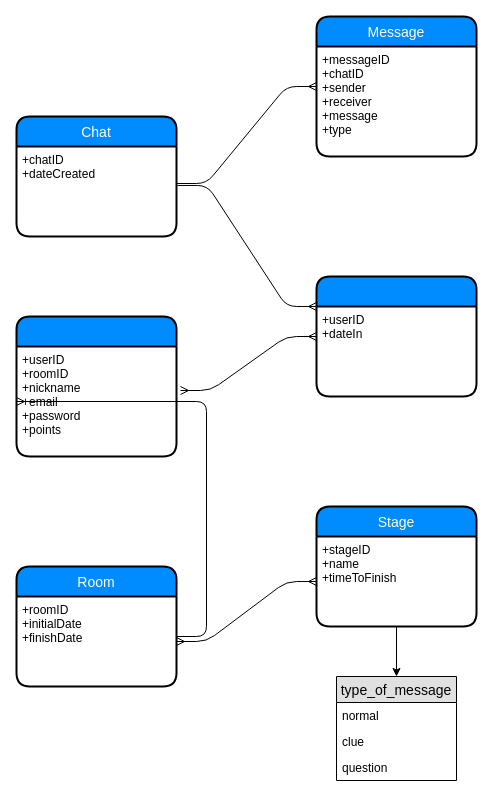
The diagram is 493 pixels wide and 797 high, and some of its shapes have lost their labels. The box of each missing label's shape, as (x1, y1, x2, y2) in pixels:
chatter: (315, 275, 477, 397)
Player: (15, 315, 177, 457)
